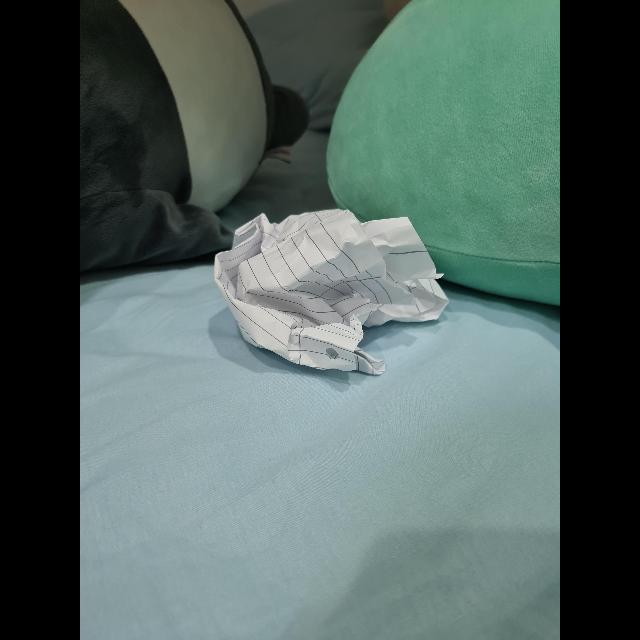trash: (208, 198, 444, 378)
